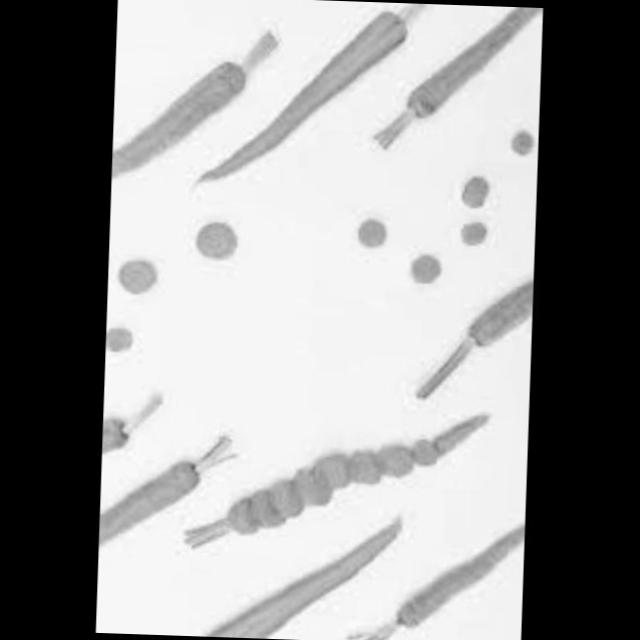ca rot: (187, 0, 413, 196), (216, 411, 484, 557), (201, 500, 406, 640), (110, 35, 272, 183), (342, 516, 524, 640), (380, 2, 542, 138), (98, 452, 224, 552), (455, 276, 533, 351), (178, 213, 248, 267), (109, 247, 159, 306), (341, 212, 393, 258), (404, 242, 446, 291), (495, 125, 536, 166), (458, 170, 496, 212), (453, 216, 498, 250), (104, 318, 136, 362), (101, 414, 132, 444)
